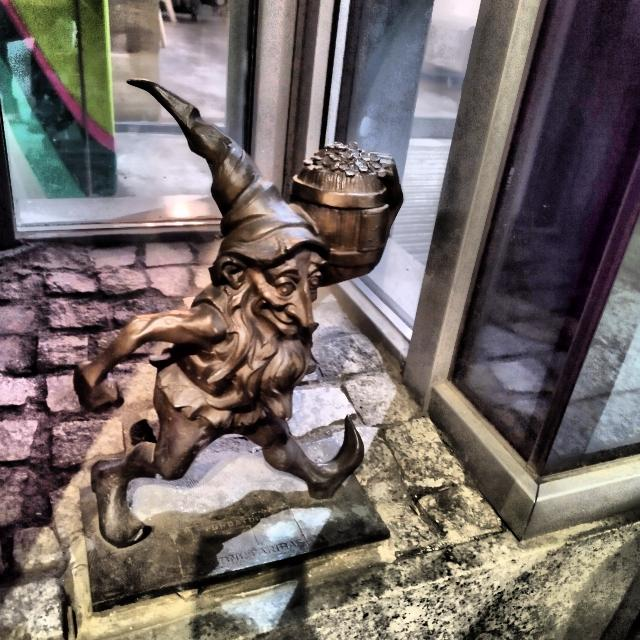Leprykonus: (72, 56, 414, 554)
